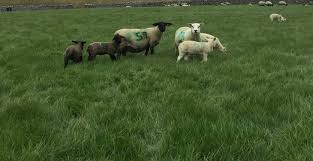sheep: (103, 21, 167, 56), (83, 35, 120, 66), (175, 37, 213, 67), (60, 37, 85, 69), (198, 31, 225, 58), (173, 20, 201, 44), (261, 9, 292, 28), (277, 1, 290, 8), (252, 1, 266, 6), (265, 1, 273, 7)
